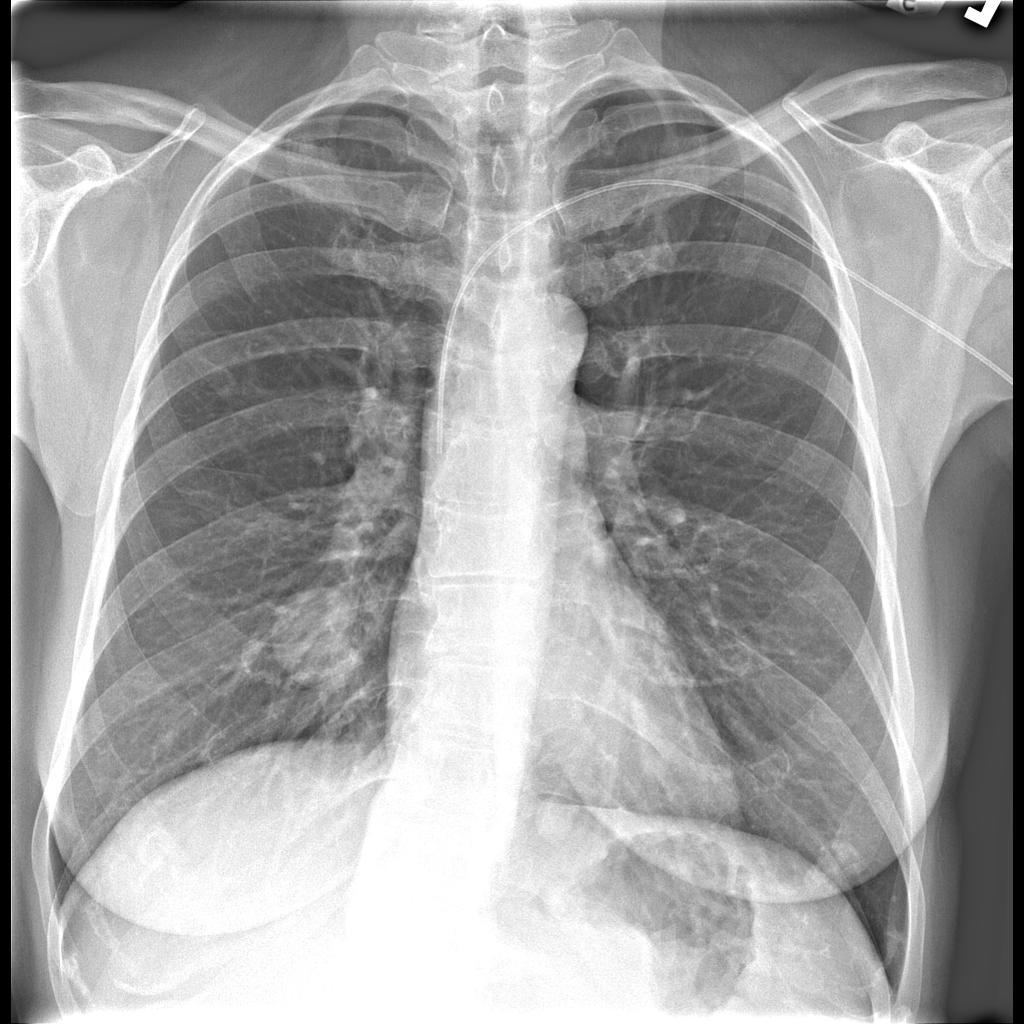Nodule: (266, 584, 374, 700)
